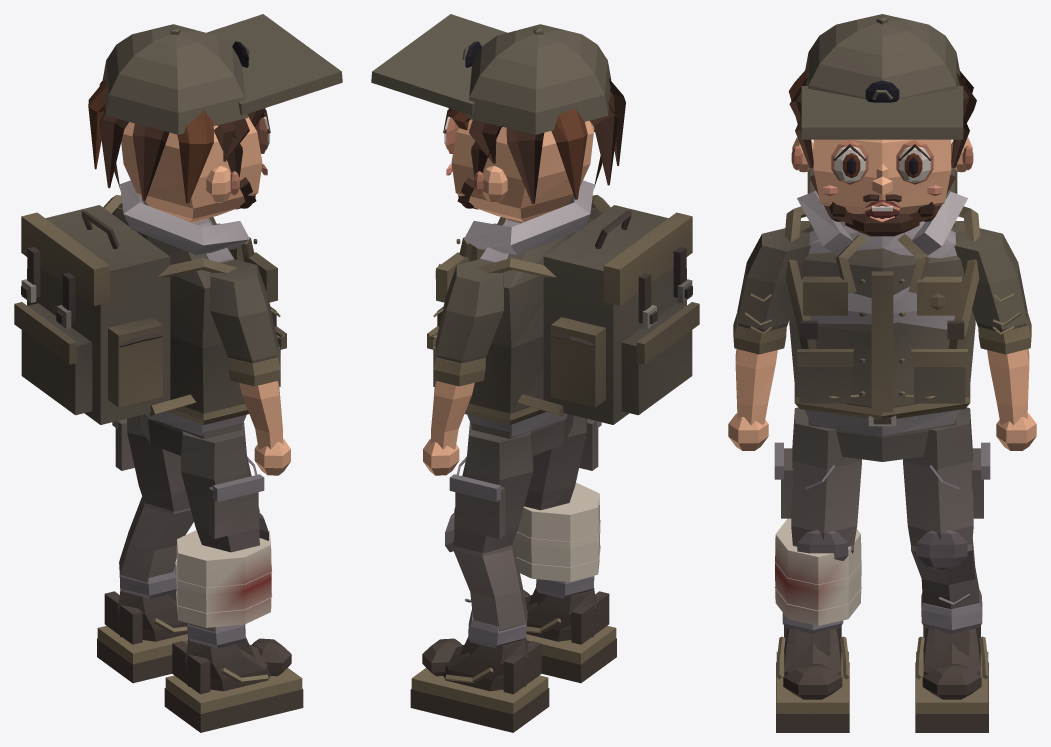
3 views of the same model, side by side, from view 1: azimuth 30°, elevation 25°; view 2: azimuth 150°, elevation 25°; view 3: azimuth 270°, elevation 25° (orthographic). The views are drawn at different scales.
Parts seen in each view (by area): view 1: torso_pal_picketWhite, head_pal_picketWhite, footR_pal_picketWhite, shinR_pal_picketWhite, legR_pal_picketWhite, head_pal_skinWarm, footL_pal_picketWhite, armR_pal_picketWhite, shinL_pal_picketWhite, legL_pal_picketWhite, foreArmR_pal_skinWarm, hip_pal_picketWhite (+2 smaller); view 2: torso_pal_picketWhite, head_pal_picketWhite, footL_pal_picketWhite, legL_pal_picketWhite, shinR_pal_picketWhite, head_pal_skinWarm, footR_pal_picketWhite, shinL_pal_picketWhite, armL_pal_picketWhite, legR_pal_picketWhite, foreArmL_pal_skinWarm, hip_pal_picketWhite (+2 smaller); view 3: torso_pal_picketWhite, head_pal_picketWhite, head_pal_skinWarm, legR_pal_picketWhite, legL_pal_picketWhite, shinR_pal_picketWhite, footL_pal_picketWhite, footR_pal_picketWhite, shinL_pal_picketWhite, armR_pal_picketWhite, armL_pal_picketWhite, hip_pal_picketWhite (+7 smaller).
Part boxes in pixels (x1,y1,x2,y2): torso_pal_picketWhite: (14,180,286,436); head_pal_picketWhite: (88,14,342,209); footR_pal_picketWhite: (164,637,303,732); shinR_pal_picketWhite: (175,512,272,648); legR_pal_picketWhite: (180,422,264,552); head_pal_skinWarm: (121,116,267,223); footL_pal_picketWhite: (97,589,187,683); armR_pal_picketWhite: (210,259,284,363); shinL_pal_picketWhite: (119,496,193,598); legL_pal_picketWhite: (112,415,190,511); foreArmR_pal_skinWarm: (239,381,283,449); hip_pal_picketWhite: (140,414,242,455); torso_pal_picketWhite: (427,180,699,436); head_pal_picketWhite: (371,14,625,209); footL_pal_picketWhite: (410,636,549,732); legL_pal_picketWhite: (449,422,533,552); shinR_pal_picketWhite: (513,482,600,598); head_pal_skinWarm: (446,117,594,223); footR_pal_picketWhite: (523,587,616,683); shinL_pal_picketWhite: (445,512,527,648); armL_pal_picketWhite: (429,259,503,363); legR_pal_picketWhite: (524,415,601,510); foreArmL_pal_skinWarm: (430,381,474,449); hip_pal_picketWhite: (471,414,573,455); torso_pal_picketWhite: (784,167,980,435); head_pal_picketWhite: (788,14,976,236); head_pal_skinWarm: (791,137,973,222); legR_pal_picketWhite: (774,407,861,546); legL_pal_picketWhite: (903,407,990,546); shinR_pal_picketWhite: (774,518,861,633); footL_pal_picketWhite: (915,626,988,732); footR_pal_picketWhite: (776,626,849,732); shinL_pal_picketWhite: (911,530,982,633); armR_pal_picketWhite: (737,228,810,332); armL_pal_picketWhite: (954,228,1027,332); hip_pal_picketWhite: (808,415,956,461).
Bounding box in the file's own units: 0.6026 × 1.45 × 0.598.
